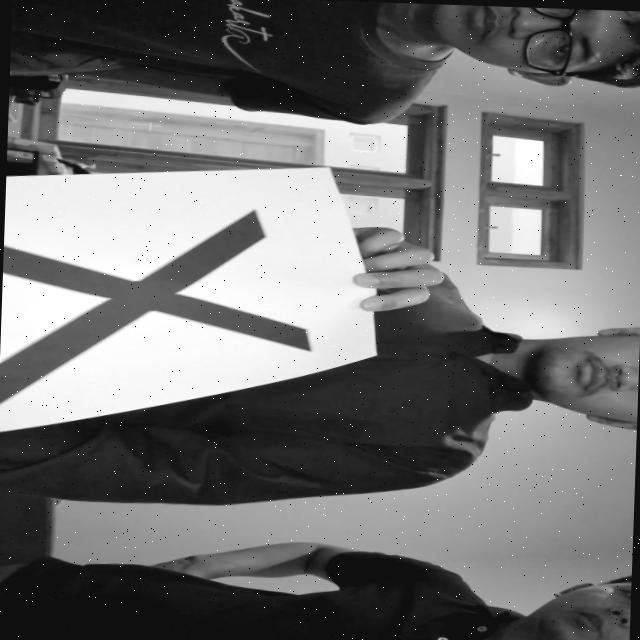x: (0, 189, 340, 443)
